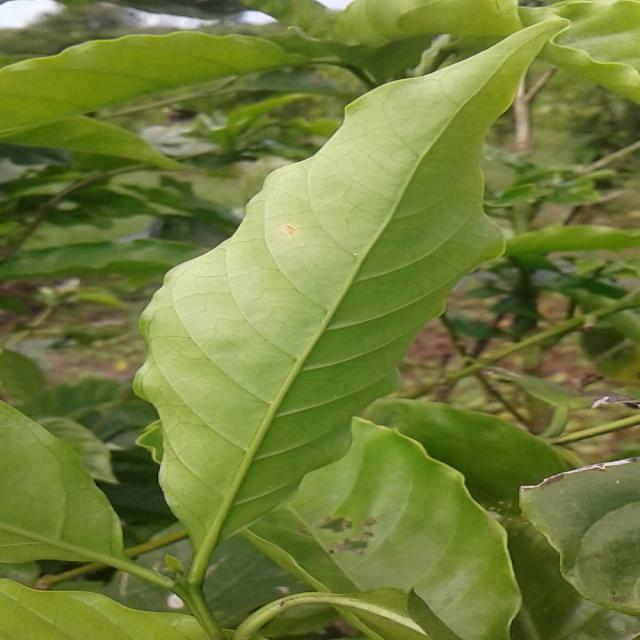Sanas: (132, 18, 568, 588)
